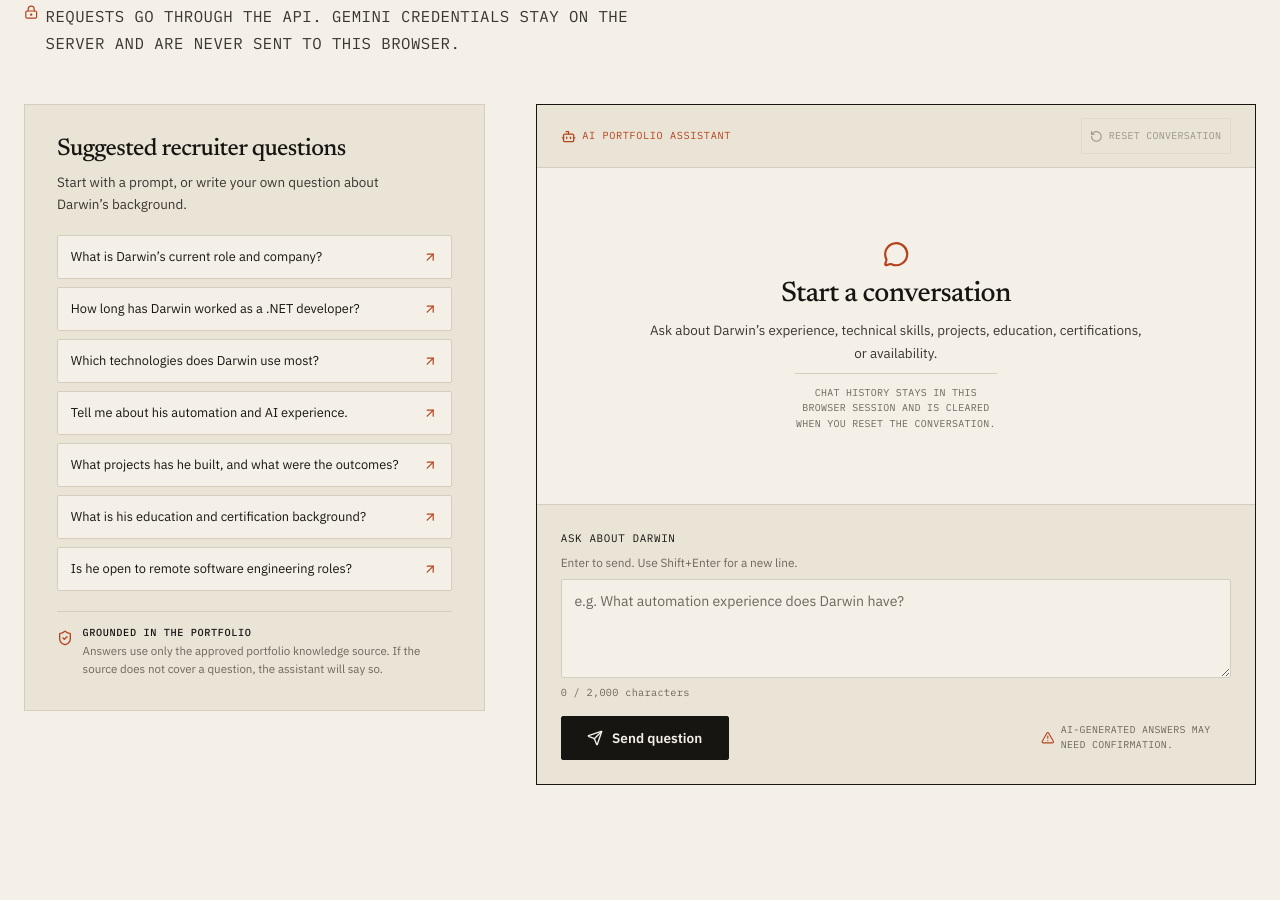
Test: PortfolioAssistantSection › shows a network error without losing the conversation
The image size is (1280, 900).
(page scrolled)
Type "Tell me about Darwin’s projects." into the text box with id "assistant-question" at (896, 628), box [561,579,1231,678]
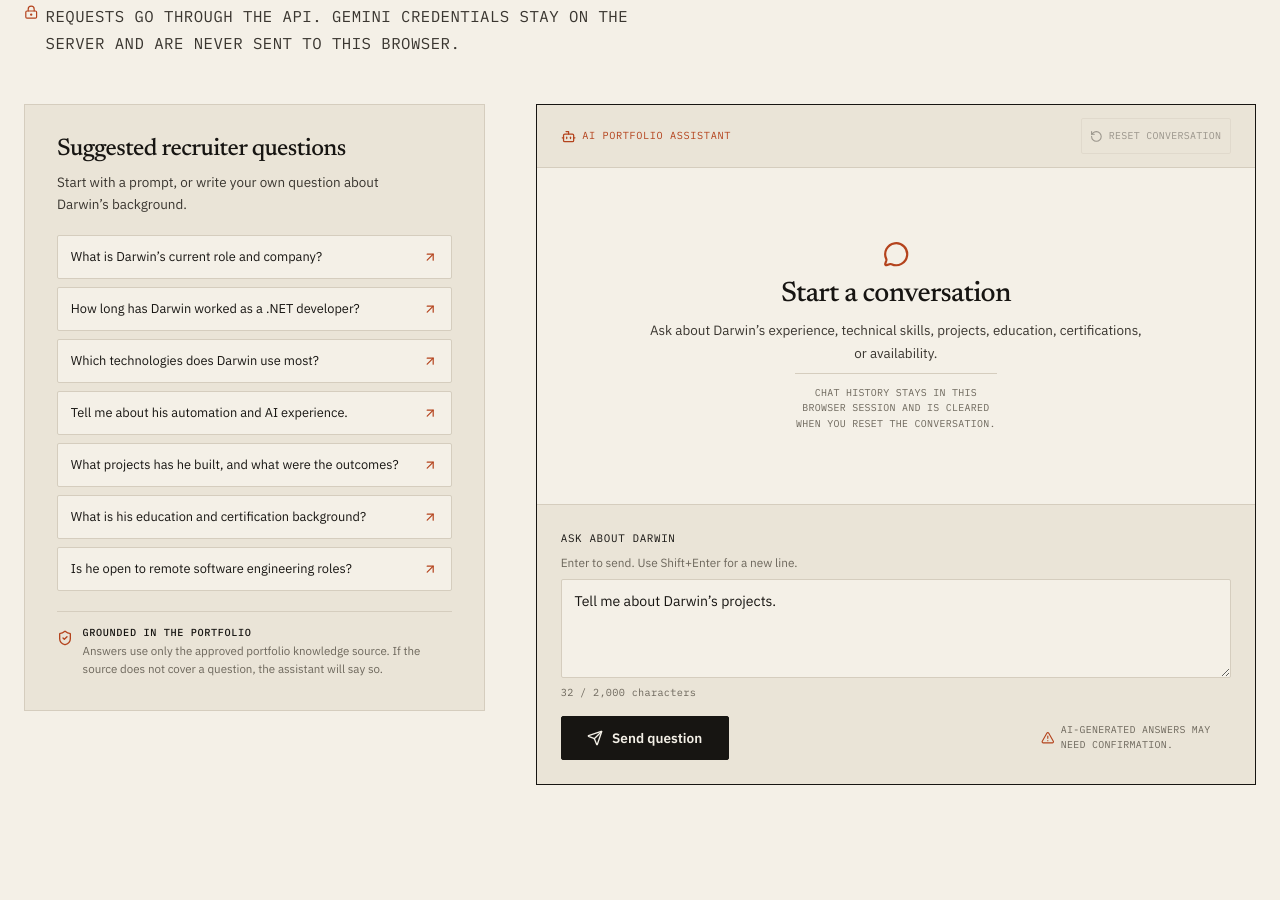
Submit the form, box [537,504,1255,784]
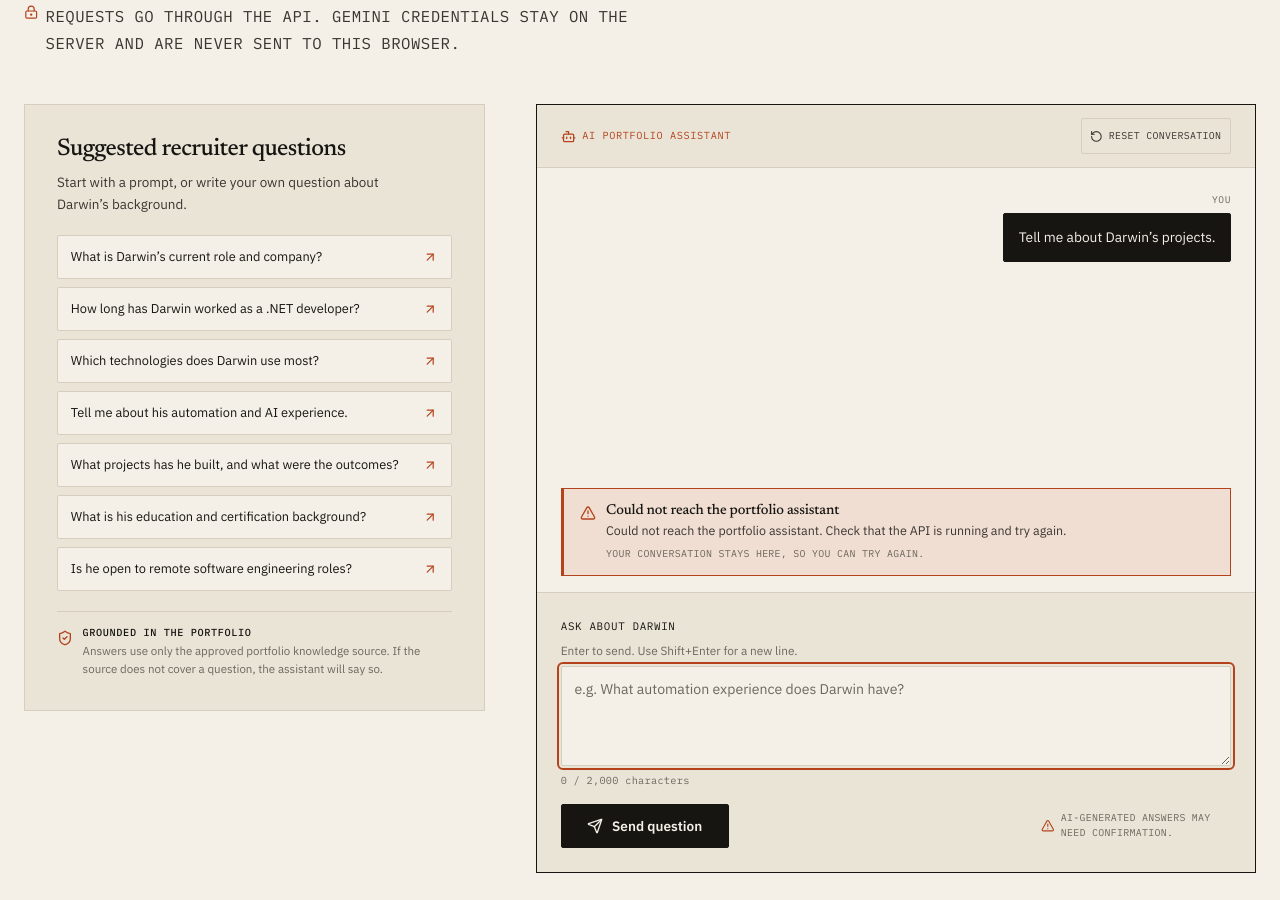
Expected: the submit button is enabled, [561,804,729,848]
Expected: the message with class "assistant__error" shows "Could not reach the portfolio assistant", [606,503,839,518]
Expected: the list item with class "assistant__message--user" shows "Tell me about Darwin’s projects.", [1019,228,1216,246]
